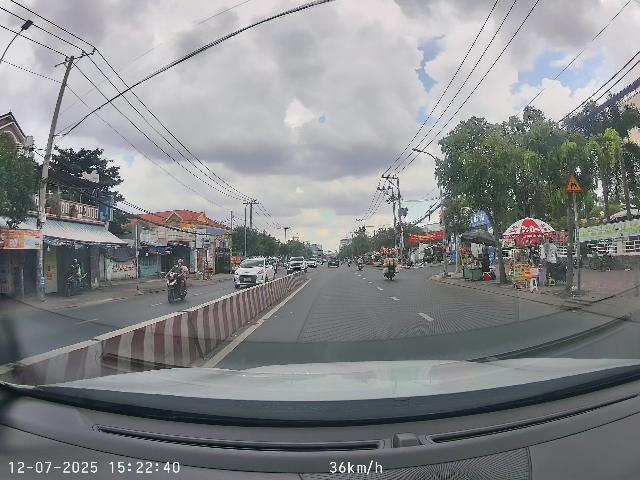225-chu-y-tre-em: (566, 172, 583, 192)
